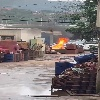fire: (52, 38, 68, 49)
